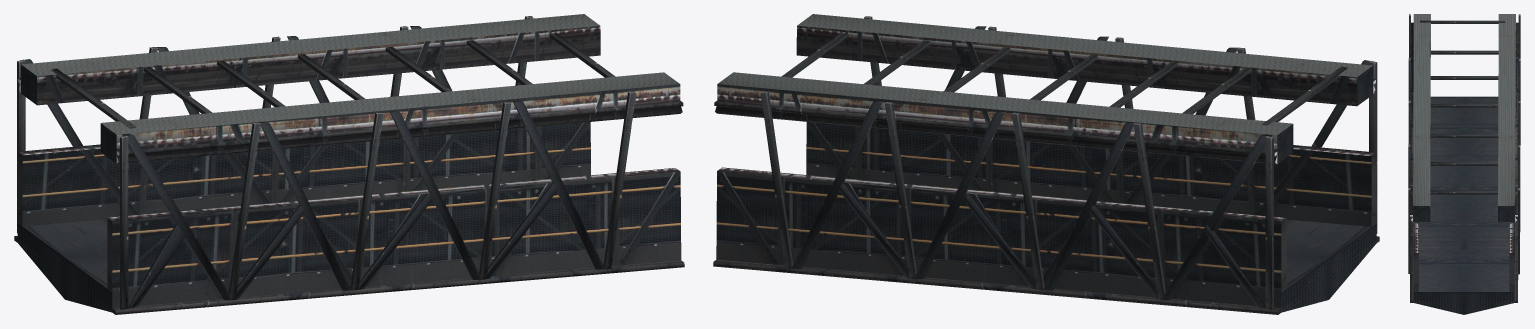
The model's file is industrial3.obj.
3 views of the same model, side by side, from view 1: azimuth 30°, elevation 25°; view 2: azimuth 150°, elevation 25°; view 3: azimuth 270°, elevation 25° (orthographic). The views are drawn at different scales.
Parts seen in each view (by area): view 1: industrial1; view 2: industrial1; view 3: industrial1.
Boxes of the visible parts, x1,y1,x2,y2 form: industrial1: [14, 14, 684, 314]; industrial1: [713, 14, 1379, 314]; industrial1: [1408, 14, 1520, 314].
Size of the model in its own units: 244 by 119 by 78.76.
Materials: 1 (1 with a texture image).
